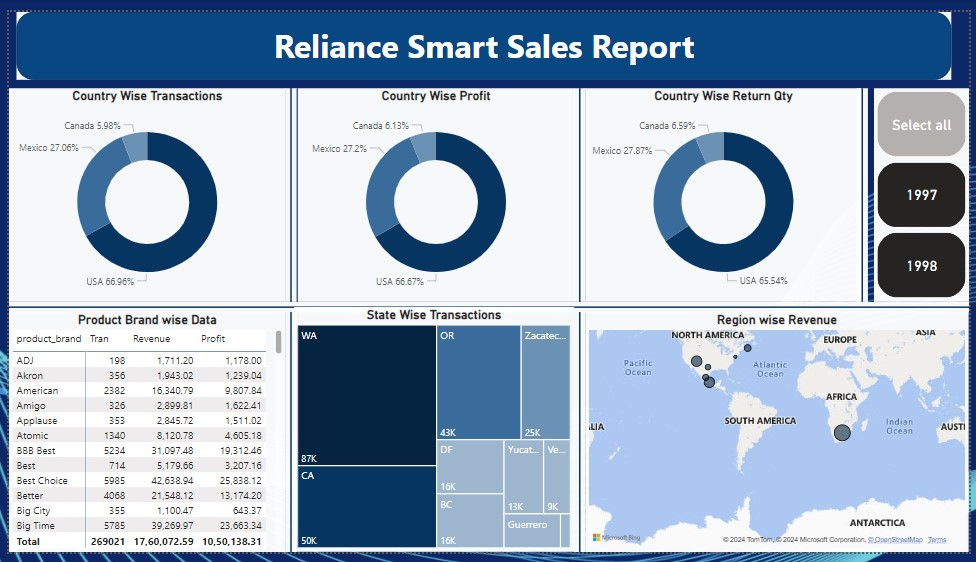

Layout of this report page (visuals, bound fields, positions):
{"tool":"powerbi","page":{"name":"Reliance Smart Sales Report","canvas":[1280,720],"ordinal":1},"visuals":[{"type":"shape","box":[10.7,0,1246.3,90.3],"z":0},{"type":"textbox","box":[10.7,9.2,1246.3,72],"z":1000},{"type":"donutChart","title":"Country Wise Transactions","fields":{"Category":["d_Stores.store_country"],"Y":["Measure Table.M_Total_Transactions"]},"box":[0,101.1,369,284.8],"z":2000},{"type":"donutChart","title":"Country Wise Profit","fields":{"Category":["d_Stores.store_country"],"Y":["Measure Table.M_Total_Profit"]},"box":[384.3,101.1,369,284.8],"z":3000},{"type":"shape","box":[369,101.1,15.3,284.8],"z":4000},{"type":"shape","box":[753.3,101.1,15.3,284.8],"z":5000},{"type":"donutChart","title":"Country Wise Return Qty","fields":{"Category":["d_Stores.store_country"],"Y":["Measure Table.M_Total_Returns"]},"box":[768.6,101.1,369,284.8],"z":6000},{"type":"shape","box":[1130,101.1,15.3,284.8],"z":7000},{"type":"advancedSlicerVisual","fields":{"Values":["d_Calendar.Year"]},"box":[1152.9,101.1,127.1,284.8],"z":8000},{"type":"shape","box":[0,385.8,1280,13.8],"z":9000},{"type":"pivotTable","title":"Product Brand wise Data","fields":{"Rows":["d_Products.product_brand"],"Values":["Measure Table.M_Total_Transactions","Measure Table.M_Total_Revenue","Measure Table.M_Total_Profit"]},"box":[0,399.6,369,320],"z":10000},{"type":"shape","box":[369,399.6,15.3,320],"z":11000},{"type":"treemap","title":"State Wise Transactions","fields":{"Group":["d_Stores.store_state"],"Values":["Measure Table.M_Total_Transactions"]},"box":[379.7,393.5,373.6,326.1],"z":12000},{"type":"shape","box":[753.3,399.6,15.3,320],"z":13000},{"type":"map","title":"Region wise Revenue","fields":{"Category":["d_Regions.sales_region"],"Size":["Measure Table.M_Total_Revenue"]},"box":[768.6,399.6,511.4,320],"z":14000}]}

Visuals, with their boxes in screenshot pixels (x1, y1, x2, y2), scaled from the page's 1280x720 canvas onto the 976x562 screenshot:
shape: bbox(8, 0, 958, 70)
textbox: bbox(8, 7, 958, 63)
"Country Wise Transactions" donutChart: bbox(0, 79, 281, 301)
"Country Wise Profit" donutChart: bbox(293, 79, 574, 301)
shape: bbox(281, 79, 293, 301)
shape: bbox(574, 79, 586, 301)
"Country Wise Return Qty" donutChart: bbox(586, 79, 867, 301)
shape: bbox(862, 79, 873, 301)
advancedSlicerVisual - d_Calendar.Year: bbox(879, 79, 975, 301)
shape: bbox(0, 301, 975, 312)
"Product Brand wise Data" pivotTable: bbox(0, 312, 281, 561)
shape: bbox(281, 312, 293, 561)
"State Wise Transactions" treemap: bbox(290, 307, 574, 561)
shape: bbox(574, 312, 586, 561)
"Region wise Revenue" map: bbox(586, 312, 975, 561)
